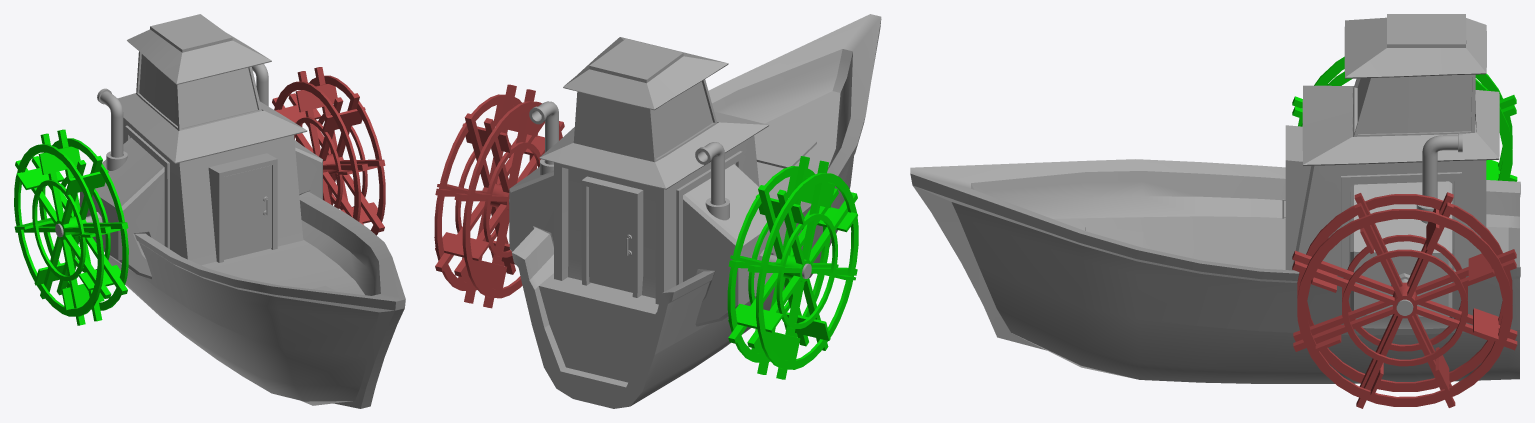
Rendered from boatFinal_low.fbx.
3 renders of one model, left to right at view 1: azimuth 30°, elevation 25°; view 2: azimuth 150°, elevation 25°; view 3: azimuth 270°, elevation 25°, orthographic. The views are drawn at different scales.
Parts seen in each view (by area): view 1: boatFinal_low, wheel_RLow, wheel_LLow; view 2: boatFinal_low, wheel_RLow, wheel_LLow; view 3: boatFinal_low, wheel_LLow, wheel_RLow.
Part boxes in pixels (x1=…): boatFinal_low: x1=55, y1=14, x2=405, y2=408; wheel_RLow: x1=14, y1=129, x2=128, y2=325; wheel_LLow: x1=272, y1=67, x2=385, y2=235; boatFinal_low: x1=482, y1=14, x2=881, y2=408; wheel_RLow: x1=727, y1=156, x2=858, y2=379; wheel_LLow: x1=434, y1=84, x2=564, y2=308; boatFinal_low: x1=910, y1=14, x2=1520, y2=383; wheel_LLow: x1=1292, y1=192, x2=1517, y2=408; wheel_RLow: x1=1292, y1=56, x2=1517, y2=181.
Bounding box in the file's own units: 619 × 550 × 902.
